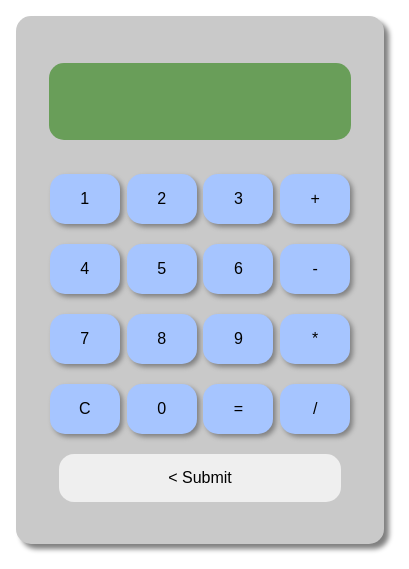
Test case: Calculator Tests › verify multiplication works, 2 * 2 = 4
The width and height of the screenshot is (409, 569).
Step 1. Click the button "2" → x=162, y=199, box [127,174,197,224]
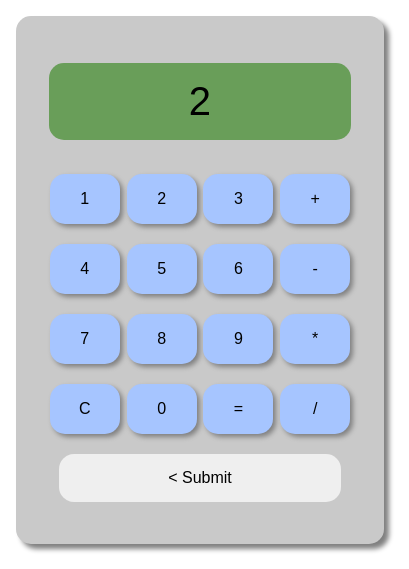
Step 2. Click the button "*" → x=315, y=339, box [280,314,350,364]
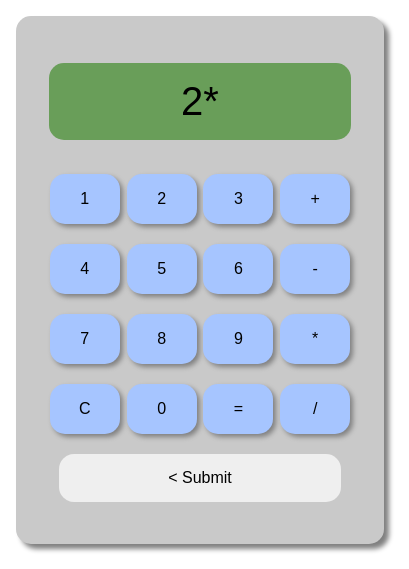
Step 3. Click the button "2" → x=162, y=199, box [127,174,197,224]
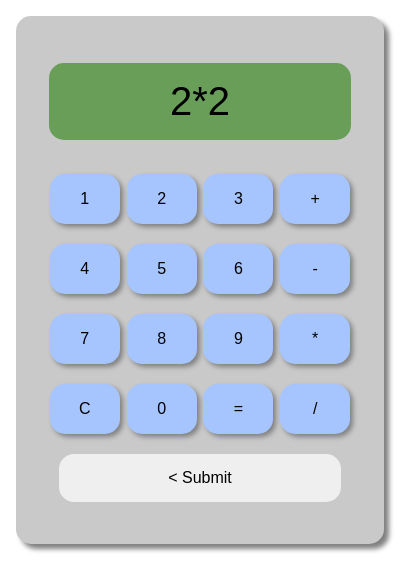
Step 4. Click the button "=" → x=238, y=409, box [203,384,273,434]
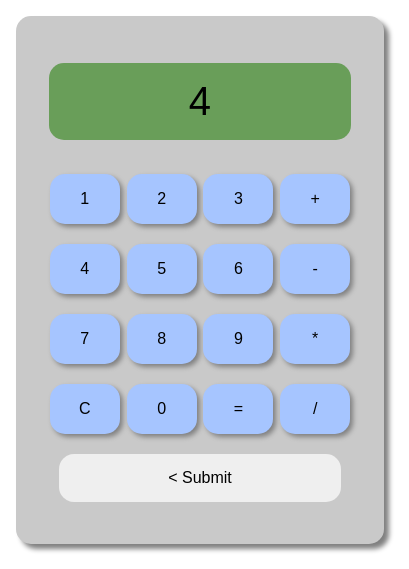
Now the field with test id "calcView" holds "4", box [49,63,351,140]
